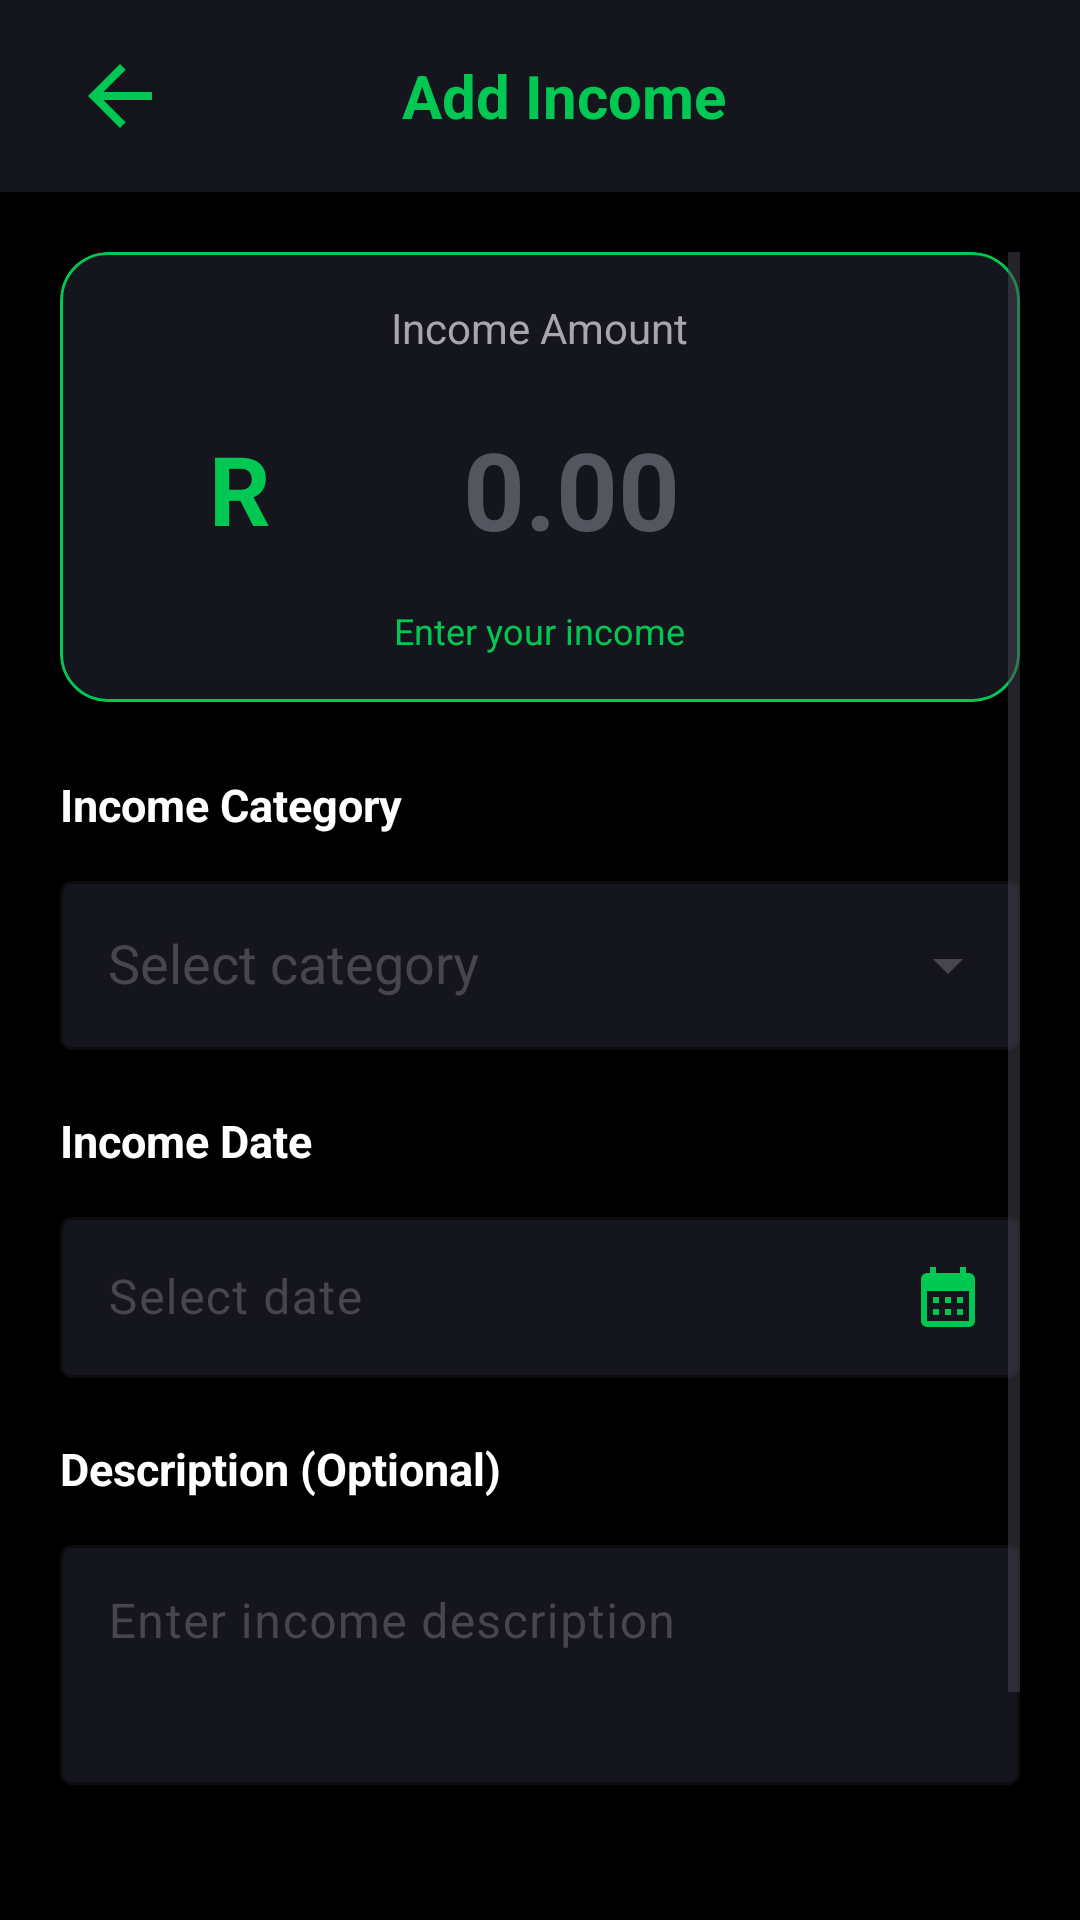

Icons on this 1080 × 1920 Android screen, each with its box as (x1, y1, x2, y2):
Back: (88, 64, 152, 128)
